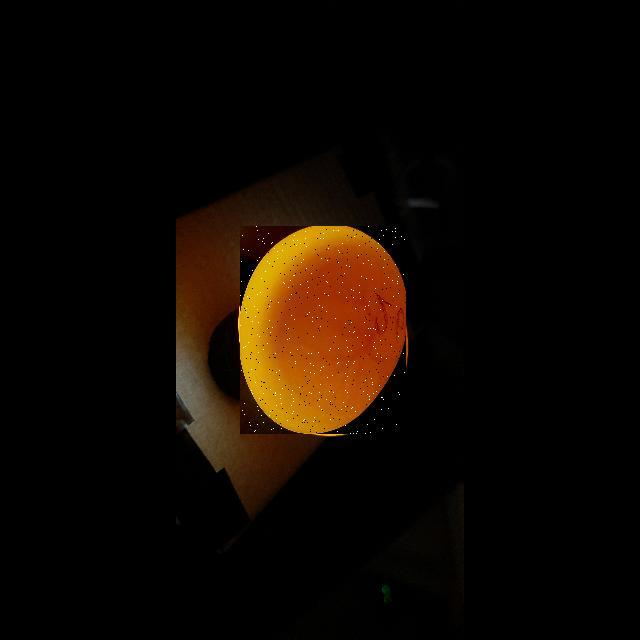Fertile: (240, 226, 406, 434)
